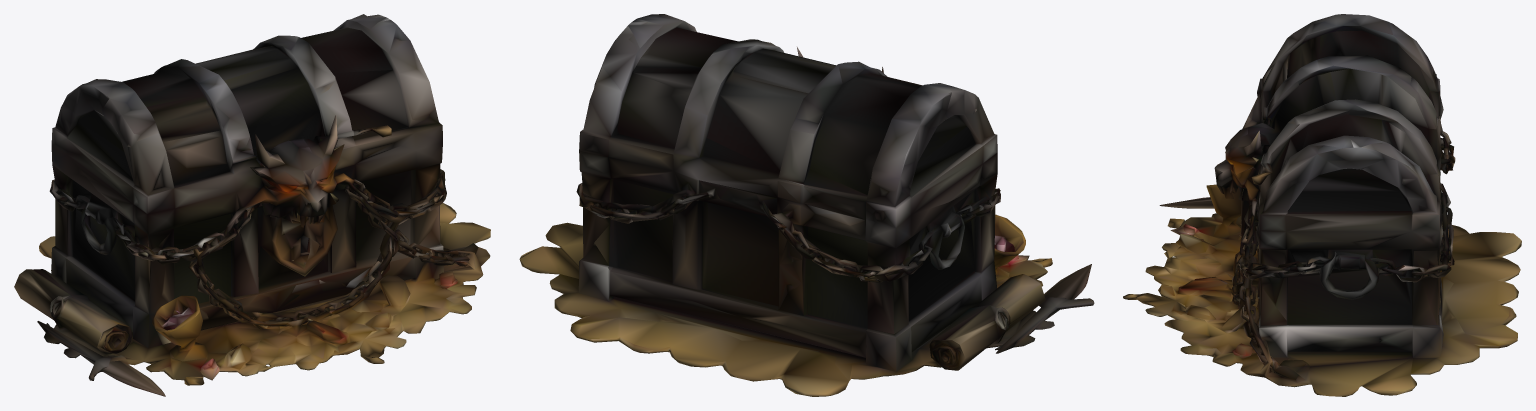
The model's file is wikalino-treasure-chest.glb.
The picture shows the model from 3 angles, left to right: view 1: azimuth 30°, elevation 25°; view 2: azimuth 150°, elevation 25°; view 3: azimuth 270°, elevation 25°; orthographic projection. The views are drawn at different scales.
Parts seen in each view (by area): view 1: node_0; view 2: node_0; view 3: node_0.
Boxes of the visible parts, x1=… form: node_0: x1=14, y1=14, x2=490, y2=396; node_0: x1=519, y1=14, x2=1094, y2=396; node_0: x1=1123, y1=14, x2=1521, y2=396.
Bounding box in the file's own units: 1.03 × 0.489 × 0.8289.
